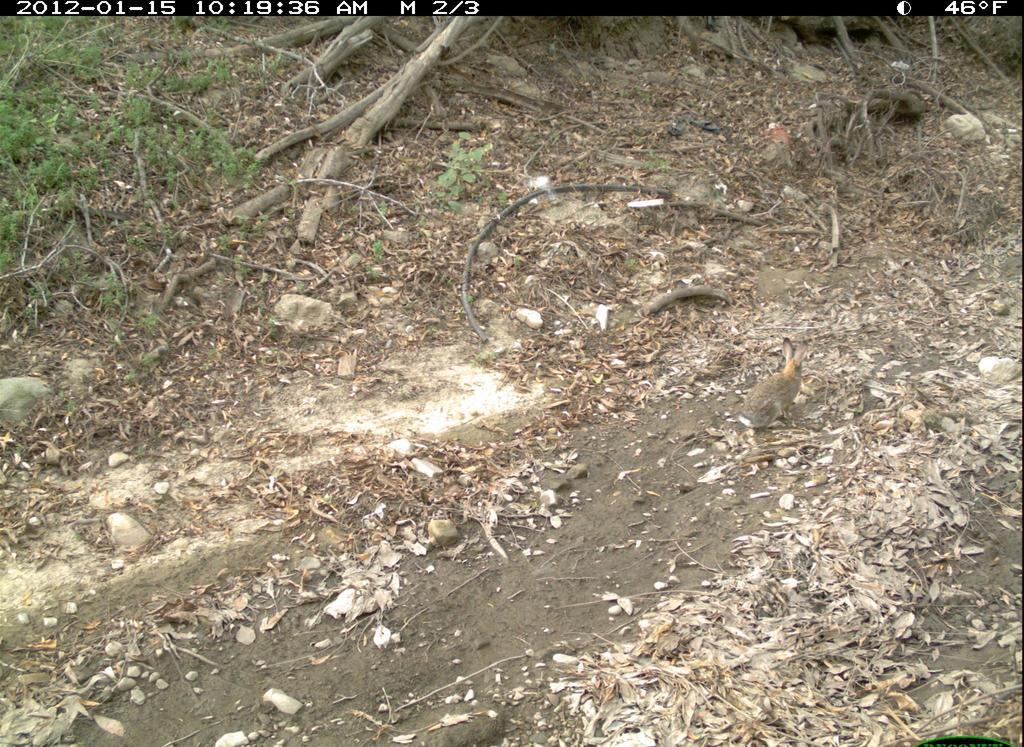rabbit: (734, 327, 822, 440)
